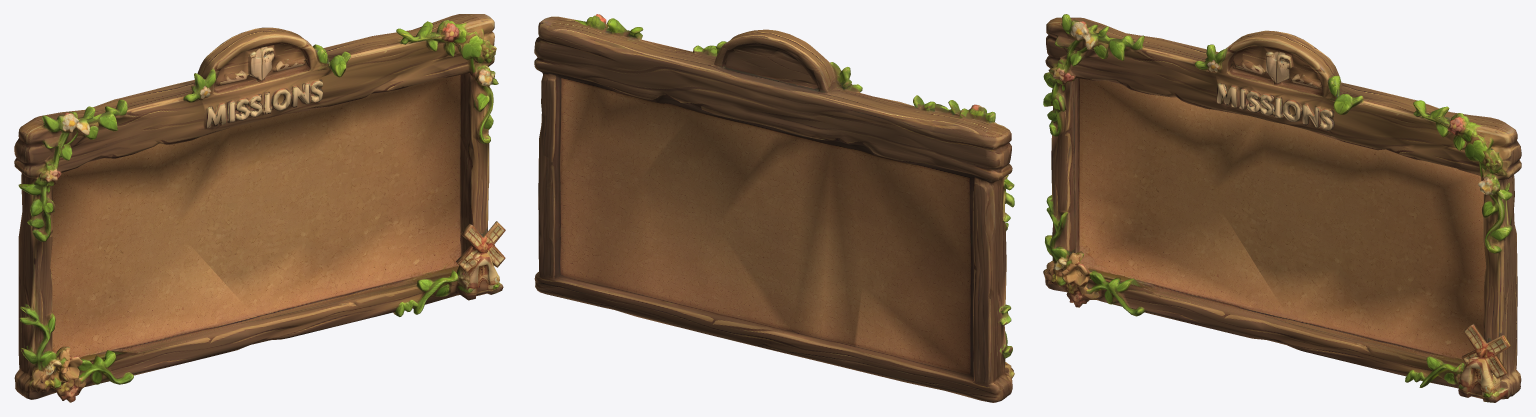
The model's file is JobBoard.glb.
3 views of the same model, side by side, from view 1: azimuth 30°, elevation 25°; view 2: azimuth 150°, elevation 25°; view 3: azimuth 330°, elevation 25° (orthographic).
Visible parts, largest first — view 1: Mesh_0; view 2: Mesh_0; view 3: Mesh_0.
Part boxes in pixels (box(x1,y1,x2,y2)): Mesh_0: box(14, 14, 505, 402); Mesh_0: box(534, 14, 1014, 402); Mesh_0: box(1043, 14, 1521, 402).
Bounding box in the file's own units: 1.91 × 1.2 × 0.1979.
Materials: 1 (1 with a texture image).
